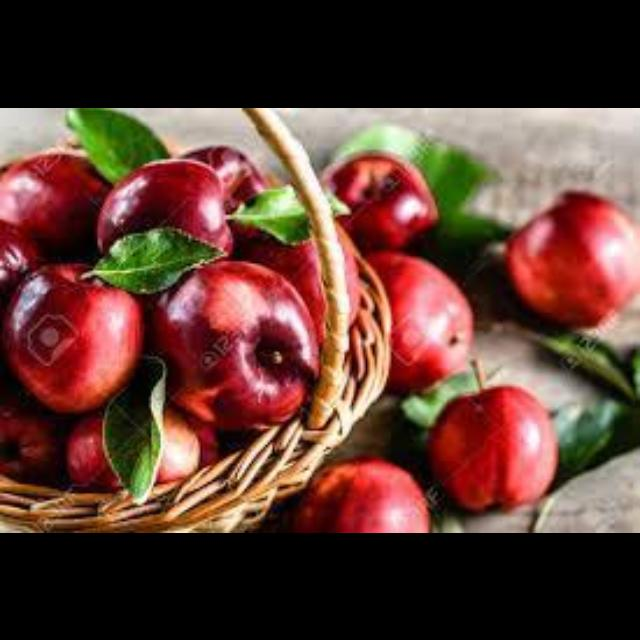apple: (149, 261, 317, 428), (0, 263, 140, 410), (505, 191, 638, 326), (428, 382, 556, 510), (365, 251, 472, 391), (95, 158, 230, 251), (0, 149, 109, 258), (323, 151, 435, 251), (289, 456, 428, 531)
